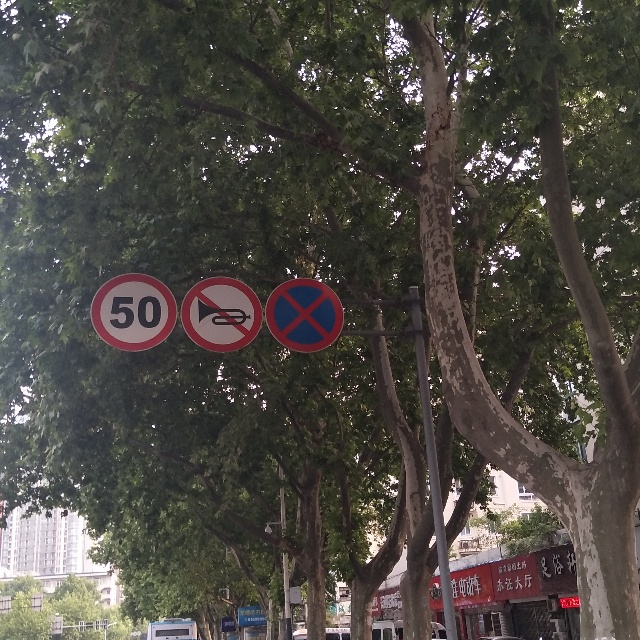nohonk: (179, 272, 267, 353)
stop: (269, 272, 348, 356)
